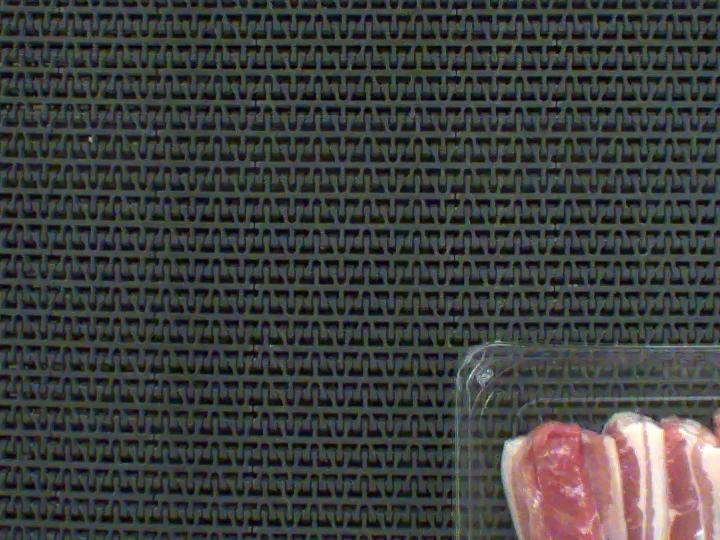twisted-meat: (506, 423, 634, 540)
